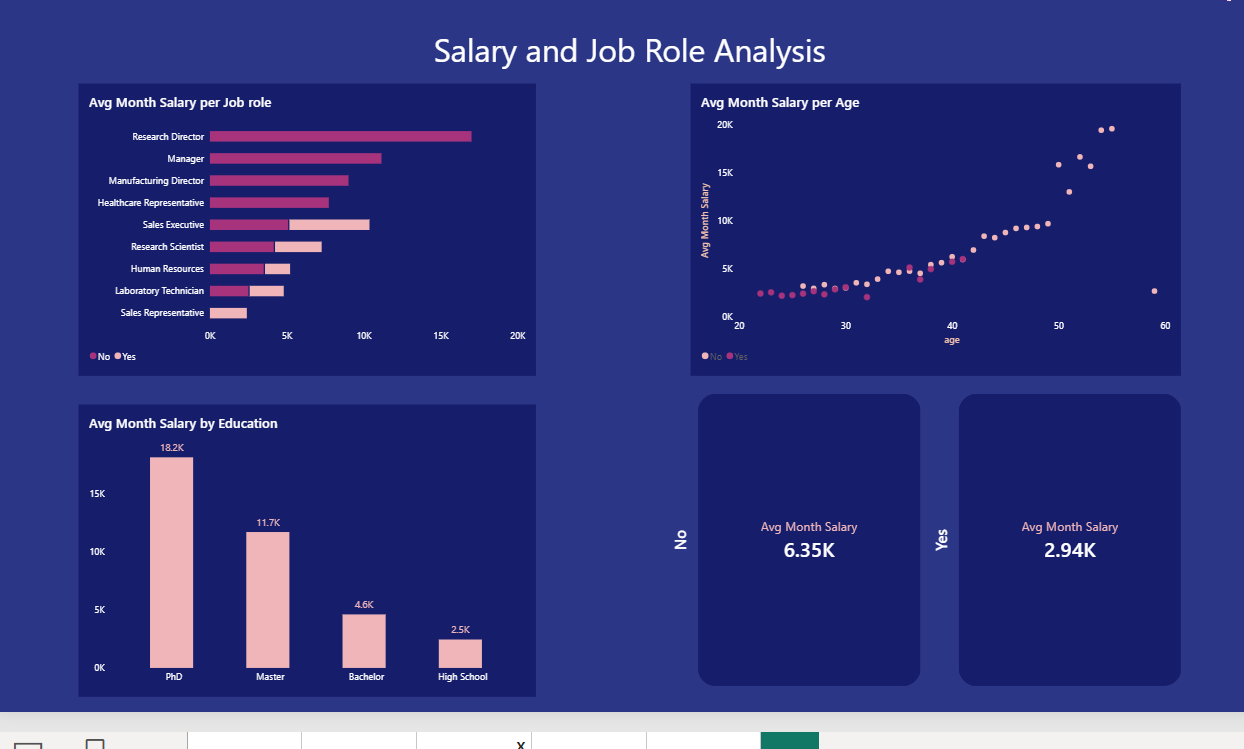

What the dashboard file says about the page in this screenshot:
{"tool":"powerbi","page":{"name":"Page 3","canvas":[1920,1080],"ordinal":2},"visuals":[{"type":"barChart","title":"Avg Month Salary per Job role","fields":{"Category":["attrition.job_role"],"Series":["attrition.attrition"],"Y":["Avg(attrition.monthly_salary)"]},"box":[124.9,129.5,692.7,442.9],"z":0},{"type":"scatterChart","title":"Avg Month Salary per Age","fields":{"Y":["Avg(attrition.monthly_salary)"],"X":["attrition.age"],"Series":["attrition.attrition"]},"box":[1051.6,129.5,742.7,442.9],"z":1000},{"type":"columnChart","title":"Avg Month Salary by Education","fields":{"Category":["attrition.education_level"],"Y":["Avg(attrition.monthly_salary)"]},"box":[124.9,615.5,692.7,442.9],"z":2000},{"type":"cardVisual","fields":{"Data":["Avg(attrition.monthly_salary)"],"Rows":["attrition.attrition"]},"box":[1019.8,599.6,774.5,442.9],"z":3000},{"type":"textbox","box":[0,45.4,1919.3,84],"z":4000}]}

Visuals, with their boxes on the page's 1920x1080 design canvas (x1, y1, x2, y2). These are canvas units, not pixel positions in the 1244x749 screenshot, which may show the page scaled, cropped or inside an application window:
"Avg Month Salary per Job role" barChart: [125, 130, 818, 572]
"Avg Month Salary per Age" scatterChart: [1052, 130, 1794, 572]
"Avg Month Salary by Education" columnChart: [125, 616, 818, 1058]
cardVisual - Avg(attrition.monthly_salary) x attrition.attrition: [1020, 600, 1794, 1042]
textbox: [0, 45, 1919, 129]
